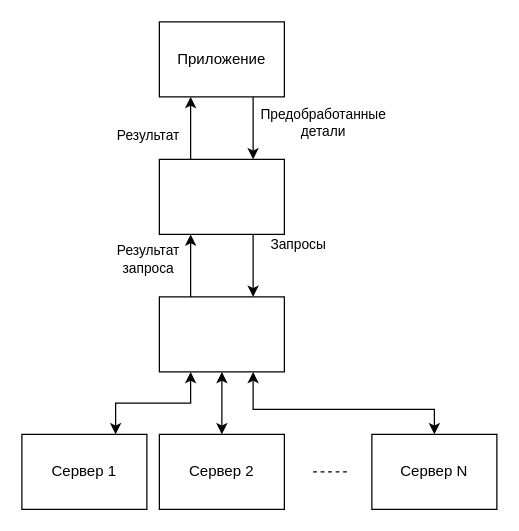
This 519x531 diagram has some shape labels left out. The centre of each missing label's shape, as x and y in pixels:
"Генератор запросов" goes at [221,196].
"Менеджер серверов" goes at [221,334].
